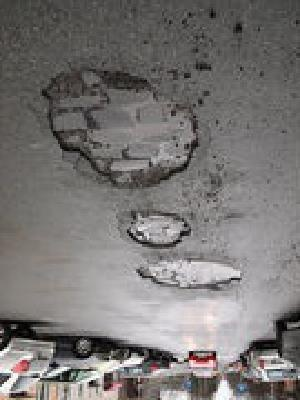pothole: (34, 60, 204, 193), (132, 258, 246, 292), (121, 208, 192, 247)
